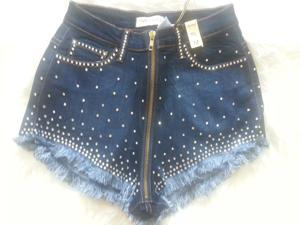C_shorts: (4, 1, 277, 225)
